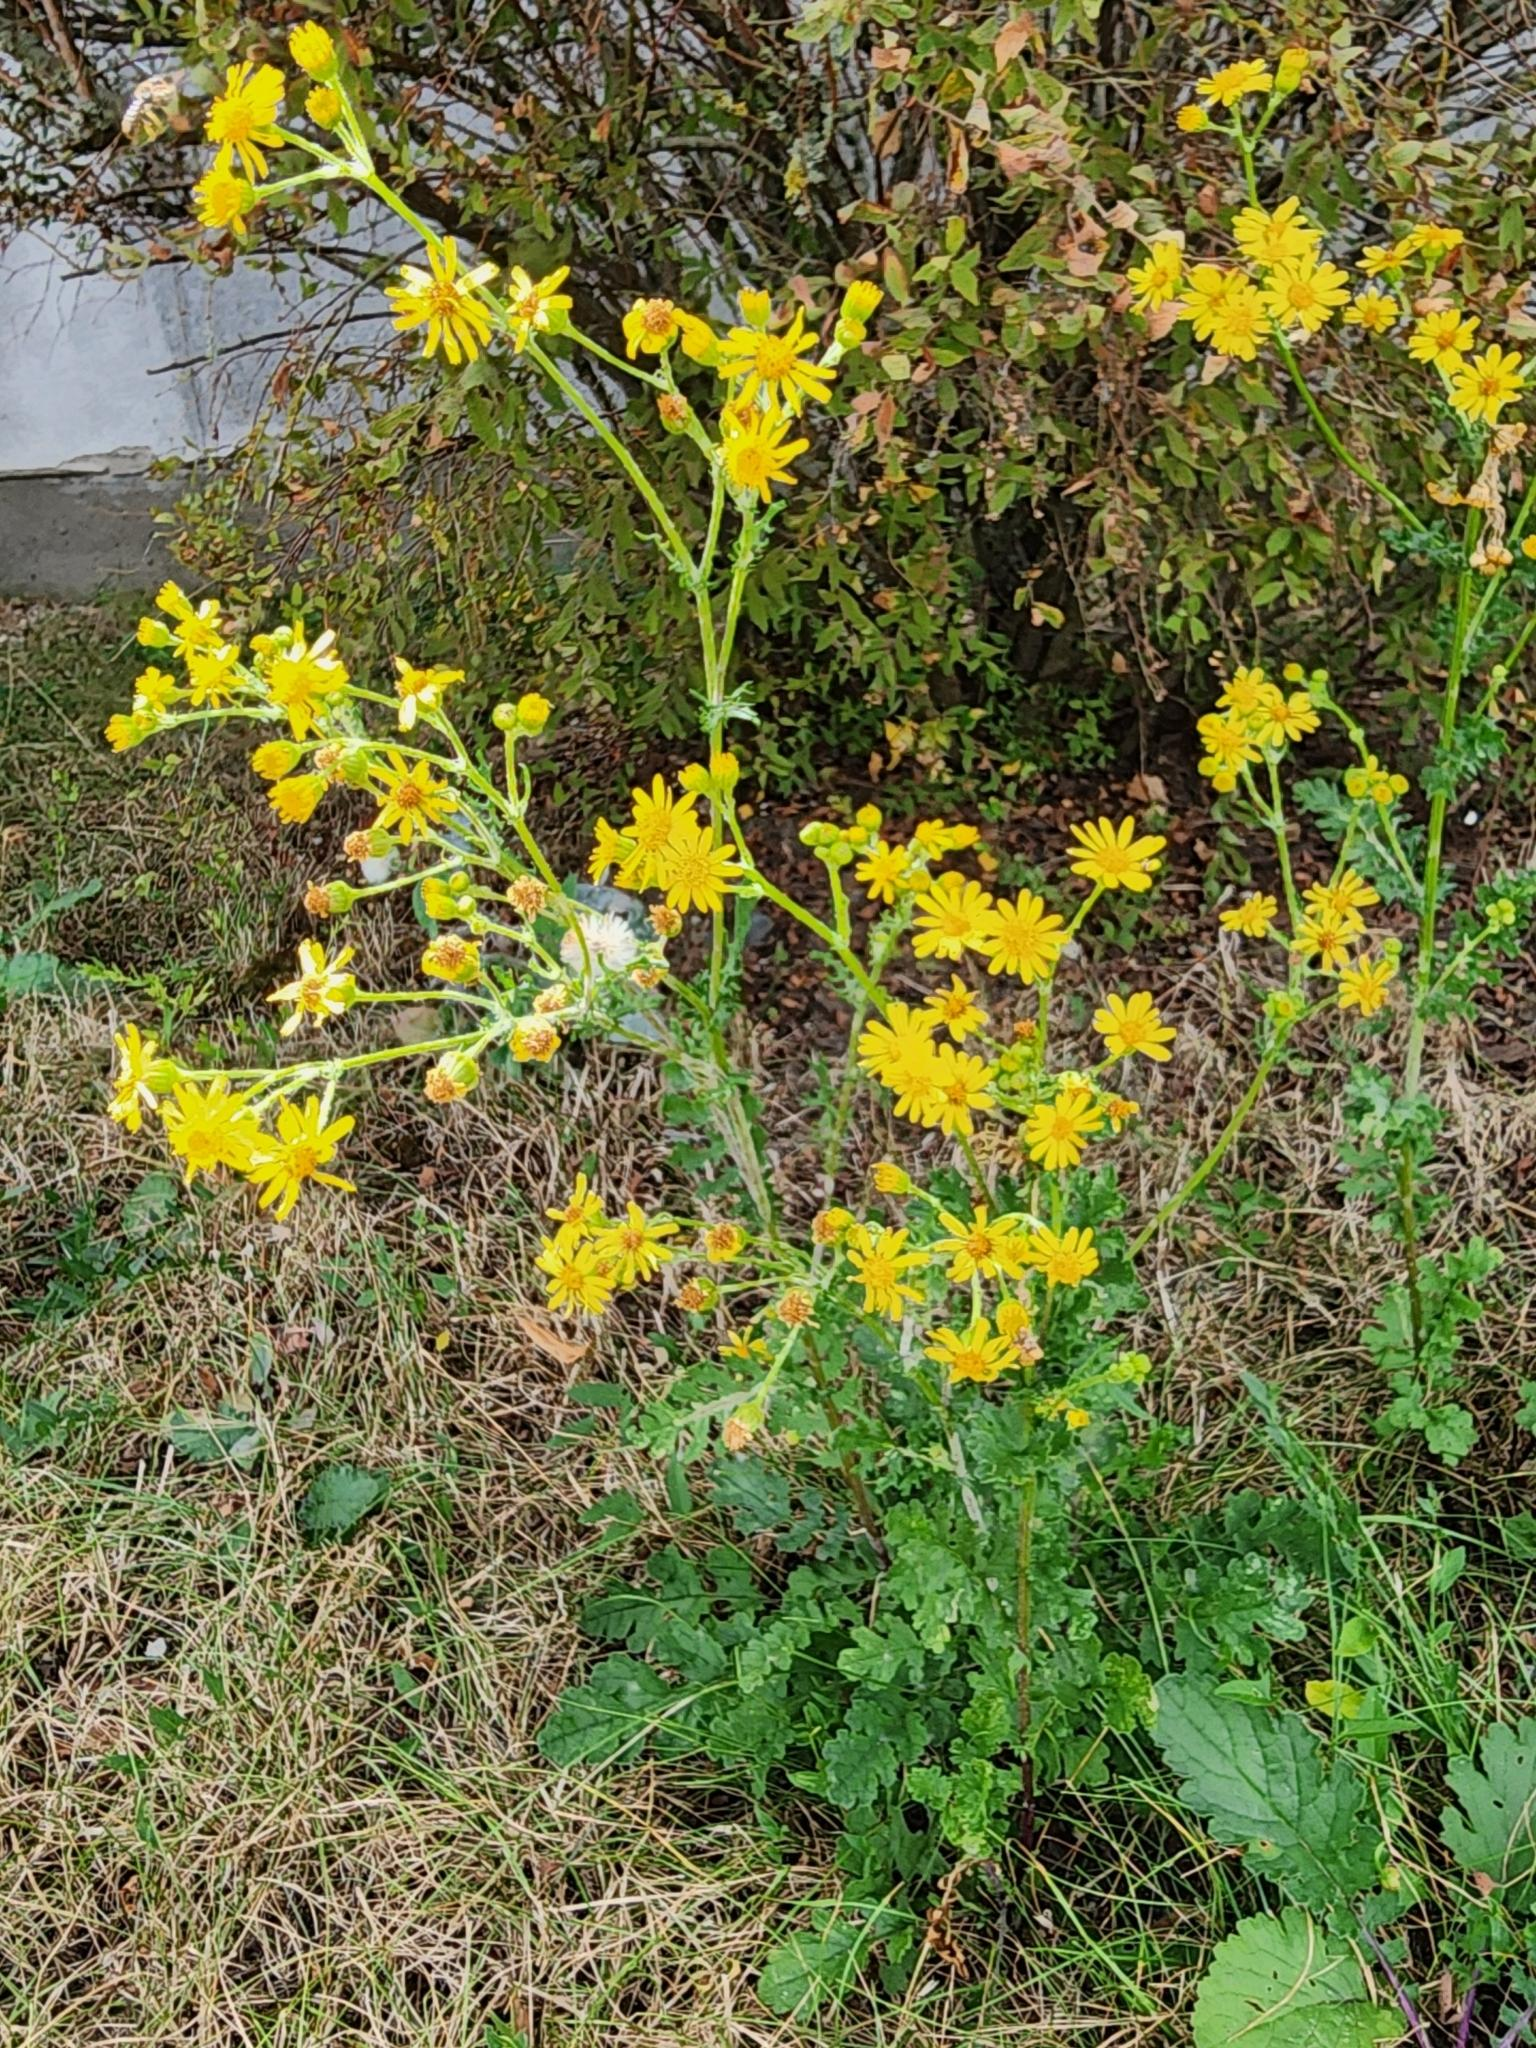Jacobaea vulgaris: (176, 27, 1170, 1850), (97, 569, 847, 1853), (1079, 6, 1517, 1563)
